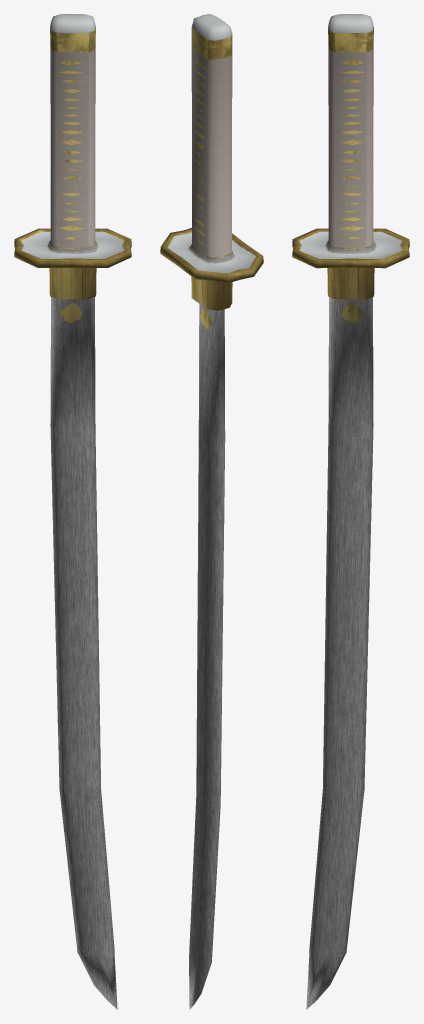
Rendered from katanaSword01.fbx.
The picture shows the model from 3 angles, left to right: view 1: azimuth 90°, elevation 25°; view 2: azimuth 210°, elevation 25°; view 3: azimuth 270°, elevation 25°; orthographic projection.
Visible parts, largest first — view 1: katana; view 2: katana; view 3: katana.
Boxes of the visible parts, bbox=[...] form: katana: bbox=[14, 14, 131, 1009]; katana: bbox=[160, 14, 263, 1009]; katana: bbox=[292, 14, 409, 1009].
Size of the model in its own units: 33 by 466 by 50.01.
